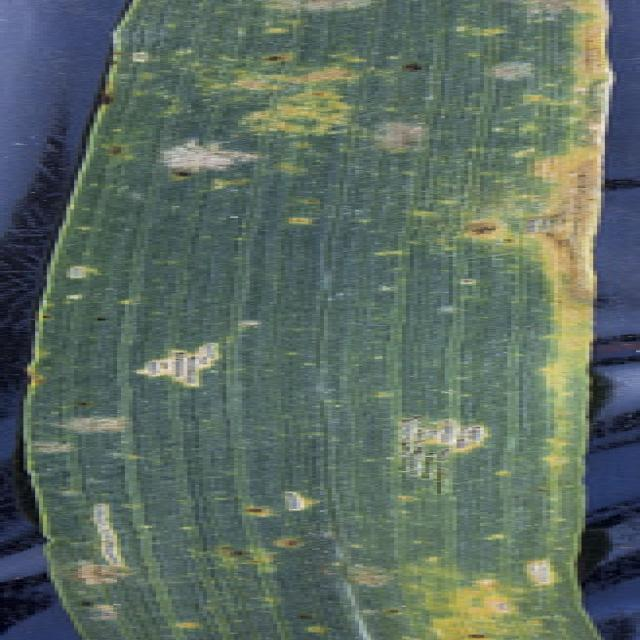wheat-powdery-mildew: (158, 137, 257, 186), (143, 344, 226, 389)
